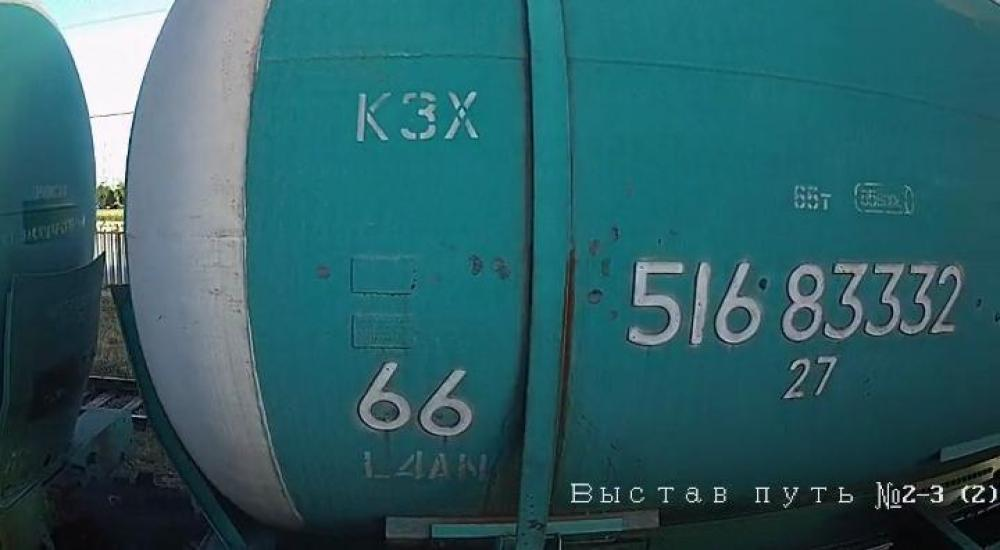Wagon-number: (619, 252, 967, 352)
